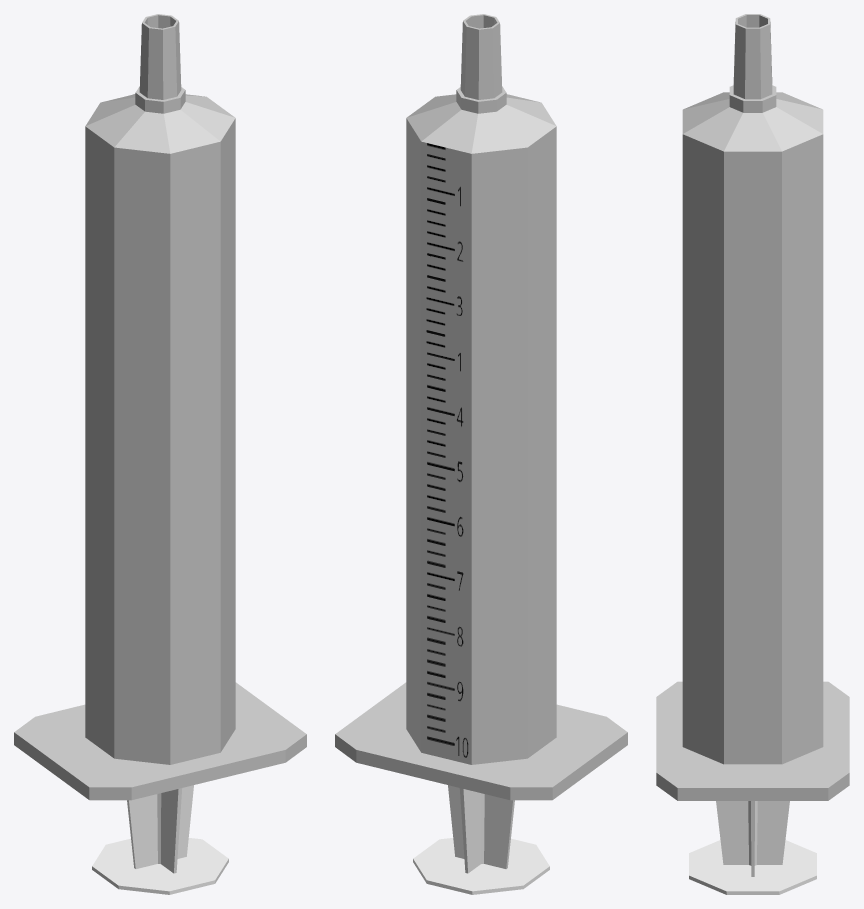
Rendered from seringa 10mL.fbx.
The picture shows the model from 3 angles, left to right: view 1: azimuth 30°, elevation 25°; view 2: azimuth 150°, elevation 25°; view 3: azimuth 270°, elevation 25°; orthographic projection.
Visible parts, largest first — view 1: Parte externa, Parte Interna; view 2: Parte externa, Parte Interna, Rotulo; view 3: Parte externa, Parte Interna.
Boxes of the visible parts, bbox=[...] form: Parte externa: bbox=[14, 14, 306, 800]; Parte Interna: bbox=[92, 785, 228, 894]; Parte externa: bbox=[335, 14, 627, 800]; Parte Interna: bbox=[413, 785, 549, 894]; Rotulo: bbox=[426, 143, 468, 757]; Parte externa: bbox=[656, 14, 849, 800]; Parte Interna: bbox=[689, 801, 816, 894].
Size of the model in its own units: 125 by 465 by 96.38.
